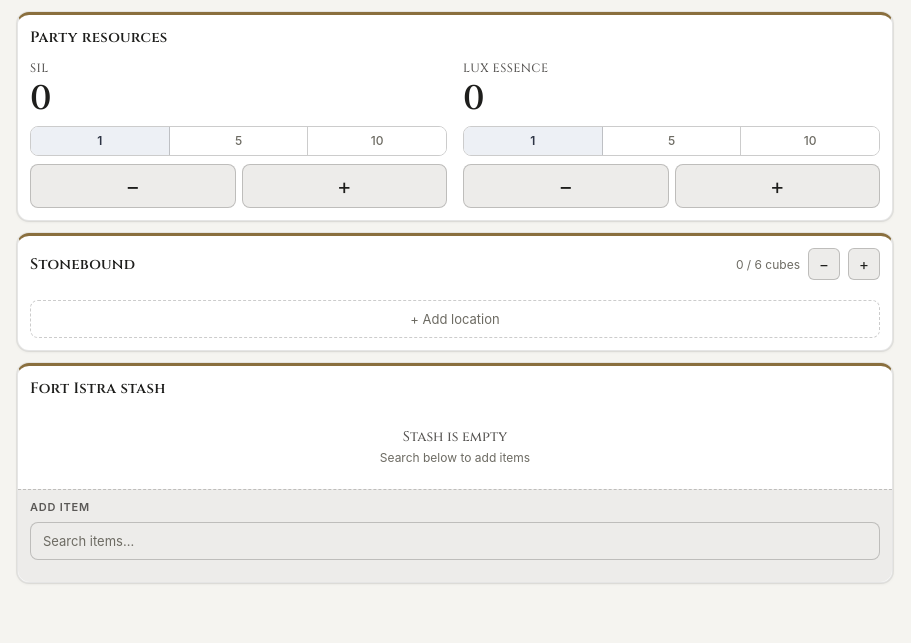
Test: stash add search — items already held › a zero-count tombstone is not treated as held
This screenshot has width=911, height=643.
Type "Pearl" into the field with class "stash-search" at (455,541), box [30, 522, 880, 560]
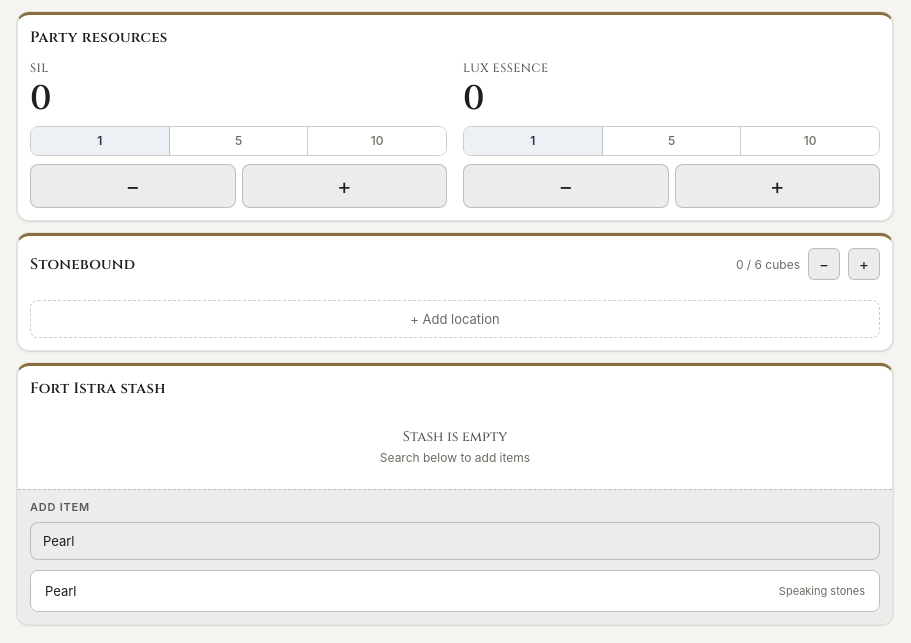
Result: the element with class "stash-add-results" shows "Pearl" at [31, 571, 879, 611]
